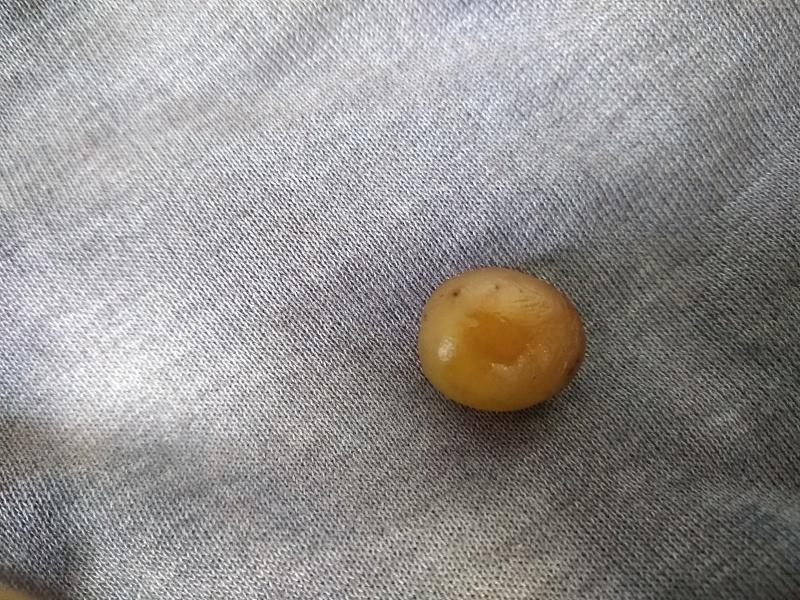Grape Rotten: (418, 264, 584, 415)
